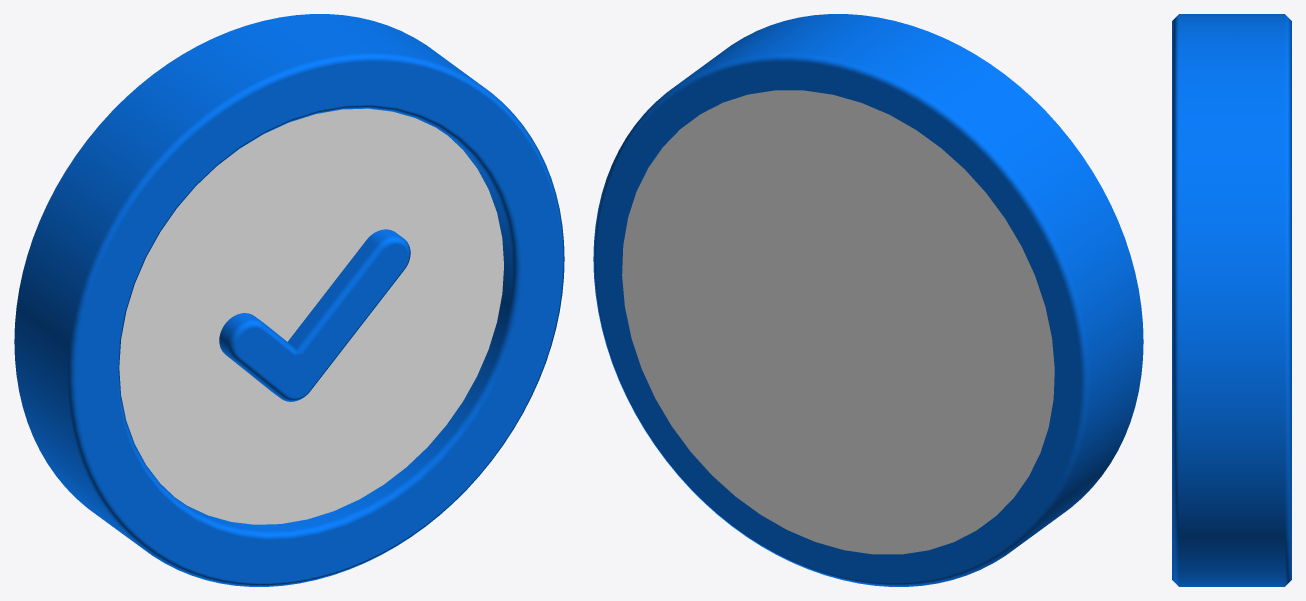
The model's file is badgeg.gltf.
The picture shows the model from 3 angles, left to right: view 1: azimuth 30°, elevation 25°; view 2: azimuth 150°, elevation 25°; view 3: azimuth 270°, elevation 25°; orthographic projection.
Visible parts, largest first — view 1: border, body, tick; view 2: body, border; view 3: border.
Boxes of the visible parts, <box> form: border: <box>14,14,564,586</box>; body: <box>119,108,503,524</box>; tick: <box>219,229,410,401</box>; body: <box>622,90,1054,554</box>; border: <box>593,14,1143,586</box>; border: <box>1172,14,1291,586</box>.
Size of the model in its own units: 4.78 by 4.78 by 1.
